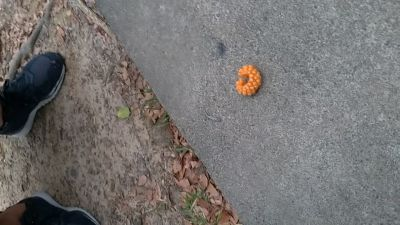eggs: (234, 63, 264, 99)
